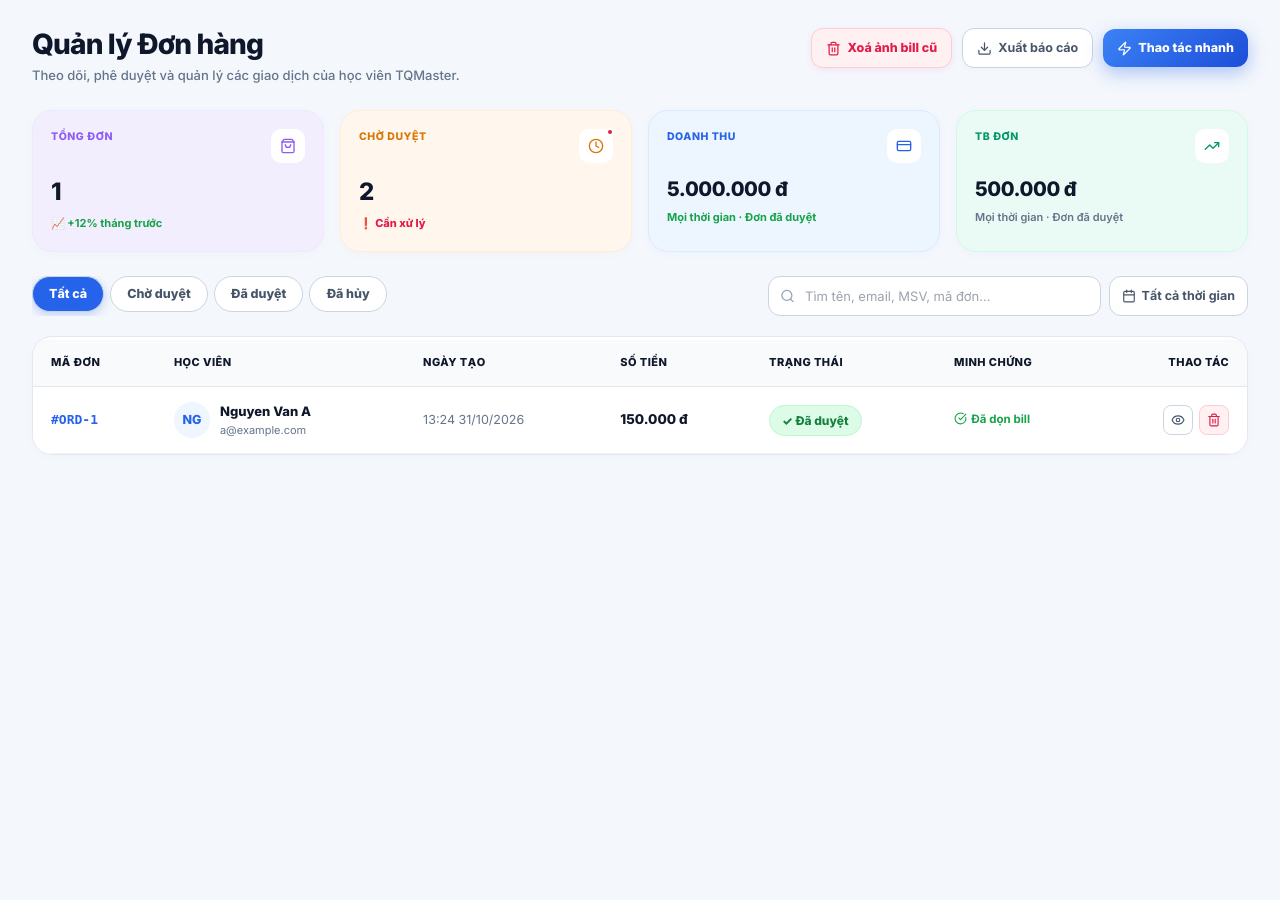
Test case: AdminOrders - Xoá ảnh bill cũ › shows educational notice in drawer when inspecting approved order whose bill was cleaned
This screenshot has width=1280, height=900.
Note: Click row detail or view action
Step 1. Click the button named "Xem" → (1178, 420), box [1163,405,1193,435]
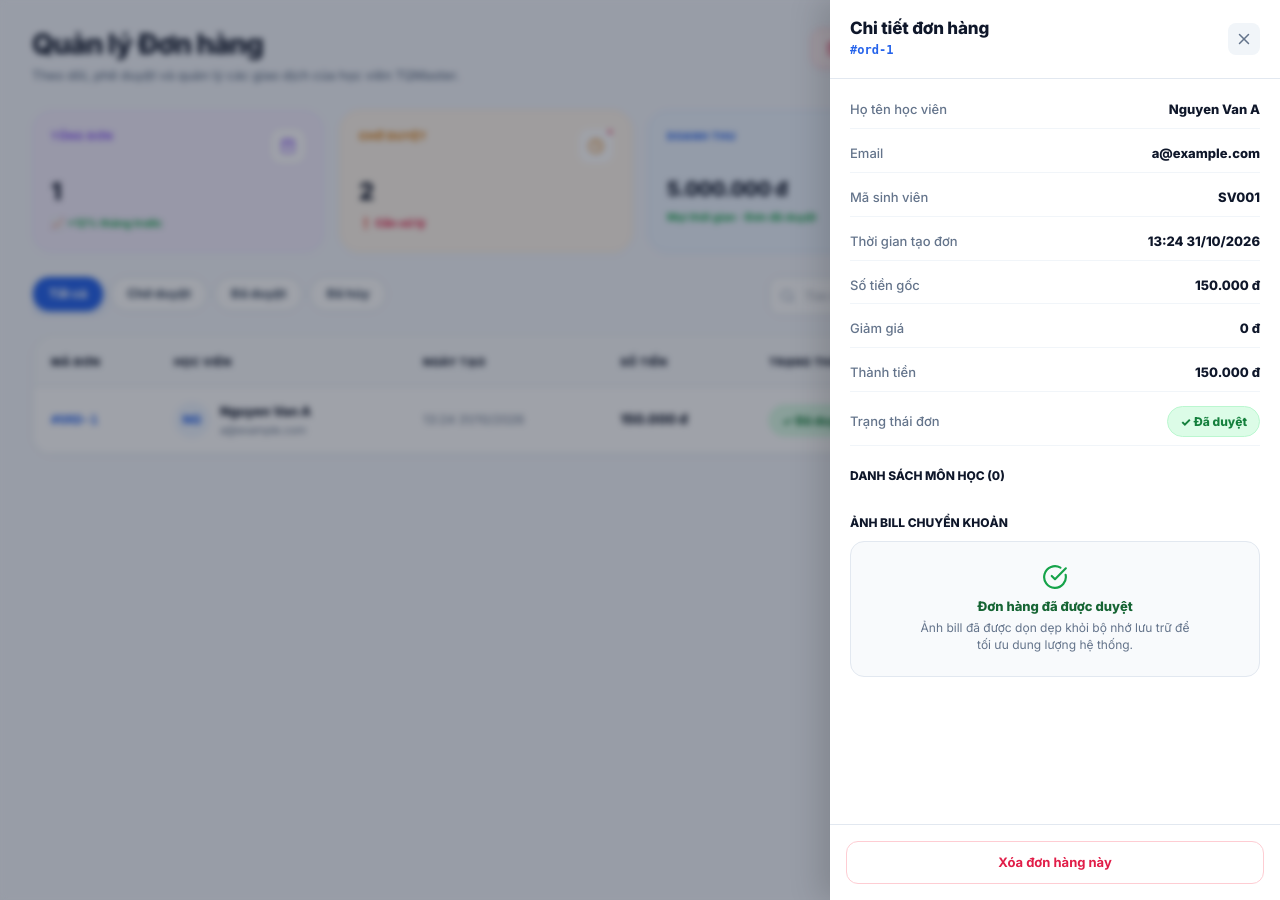
Now the text "Ảnh bill đã được dọn dẹp khỏi bộ nhớ lưu trữ để tối ưu dung lượng hệ thống" is shown, box [921,620,1189,652]
